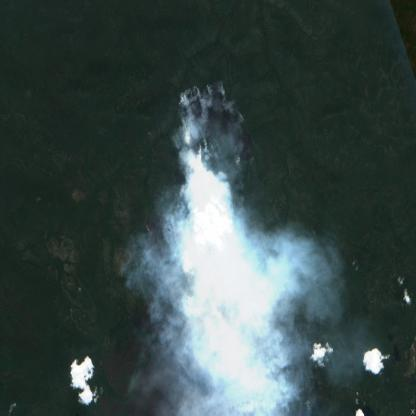fire: (171, 77, 258, 188)
